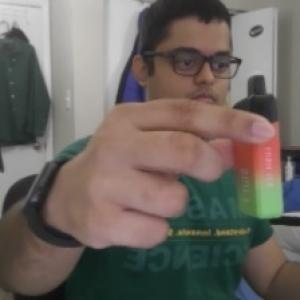Swift-E-Ciggirate: (232, 70, 292, 223)
